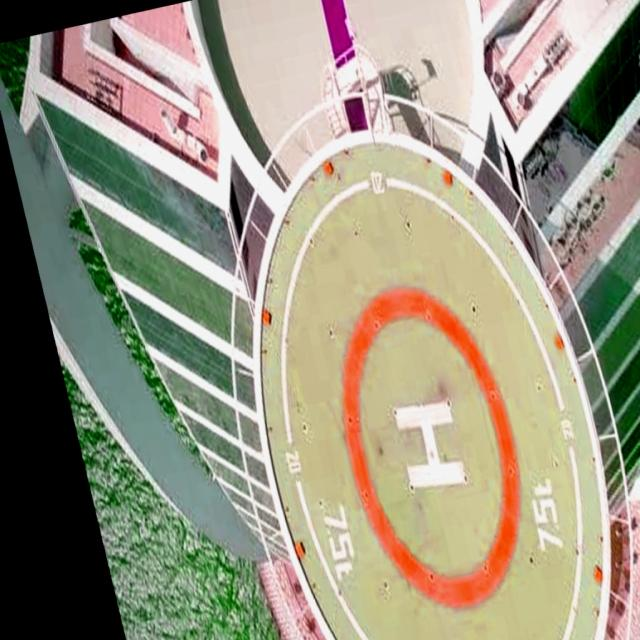helipad: (333, 279, 523, 613)
